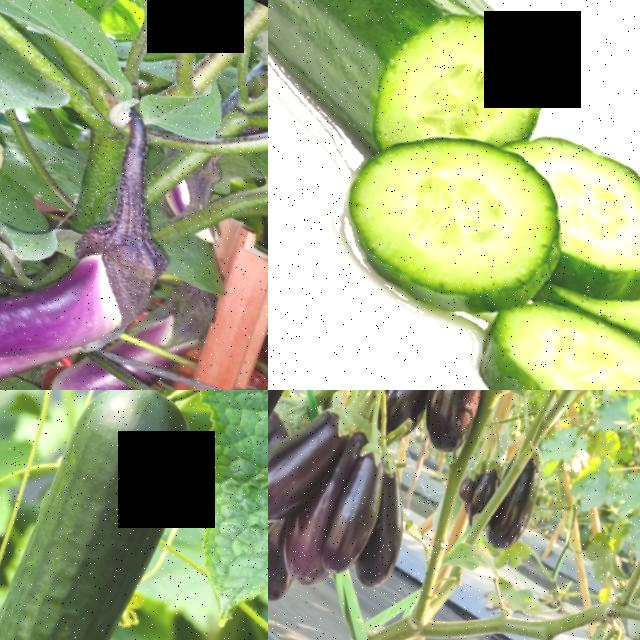cucumber: (331, 77, 573, 327), (0, 390, 208, 640), (268, 0, 485, 126), (474, 266, 640, 390), (536, 122, 640, 310)
eggplant: (0, 111, 166, 390), (309, 426, 400, 582), (268, 390, 358, 526), (347, 462, 428, 599), (484, 431, 555, 555), (410, 390, 503, 454), (381, 390, 445, 417)
